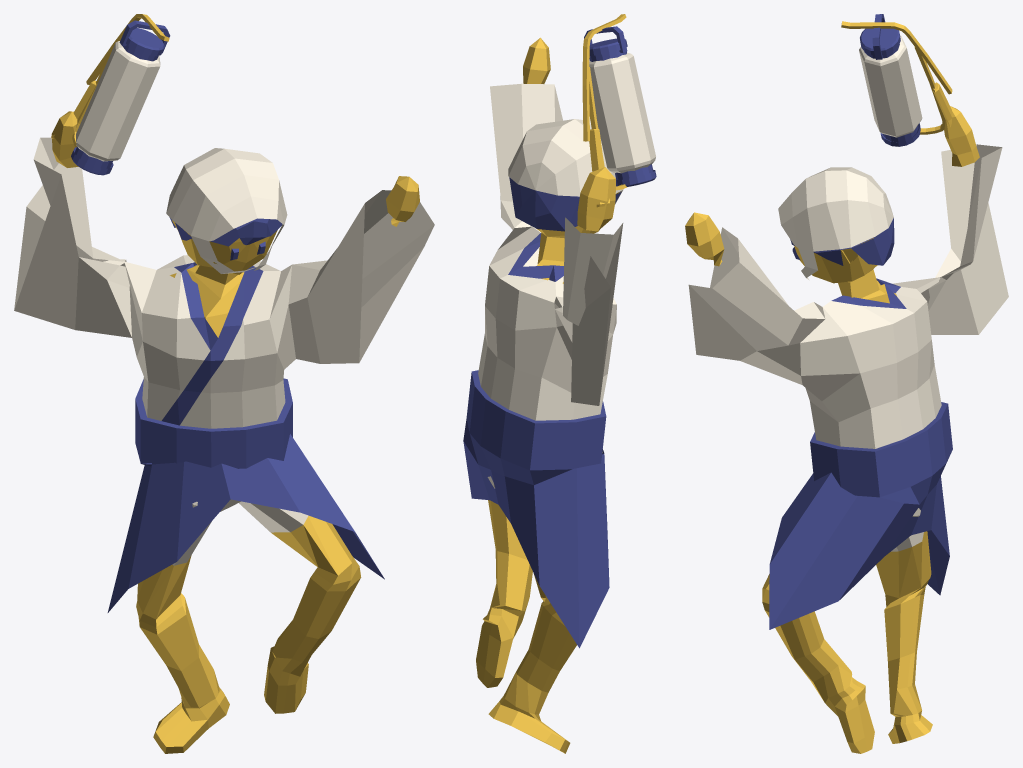
The model's file is 124_阿波踊り001.glb.
3 views of the same model, side by side, from view 1: azimuth 30°, elevation 25°; view 2: azimuth 150°, elevation 25°; view 3: azimuth 270°, elevation 25° (orthographic). The views are drawn at different scales.
Visible parts, largest first — view 1: 立方体083_3, 立方体083, 立方体083_1, 立方体083_2, 立方体083_4; view 2: 立方体083_3, 立方体083, 立方体083_1, 立方体083_2, 立方体083_4; view 3: 立方体083_3, 立方体083, 立方体083_1, 立方体083_2, 立方体083_4.
Boxes of the visible parts, x1,y1,x2,y2 form: 立方体083_3: (14,41,434,565); 立方体083: (107,217,384,612); 立方体083_1: (51,14,361,753); 立方体083_2: (51,111,419,226); 立方体083_4: (71,20,170,175); 立方体083_3: (478,52,655,488); 立方体083: (463,177,621,648); 立方体083_1: (476,14,627,753); 立方体083_2: (523,37,615,231); 立方体083_4: (584,26,656,186); 立方体083_3: (688,35,1008,551); 立方体083: (769,218,952,629); 立方体083_1: (762,21,952,753); 立方体083_2: (685,106,979,266); 立方体083_4: (860,14,920,146).
Bounding box in the file's own units: 0.942 × 2.57 × 1.07.
